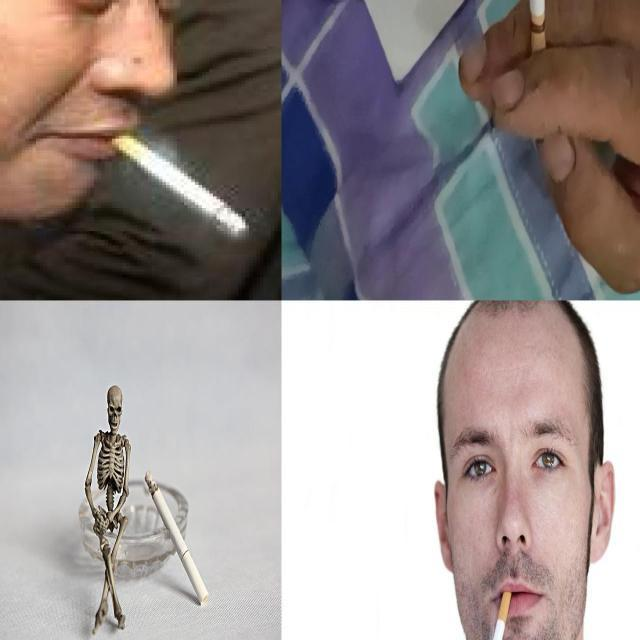smoking: (86, 121, 260, 243), (144, 469, 210, 606), (526, 0, 548, 86), (481, 589, 513, 639)
